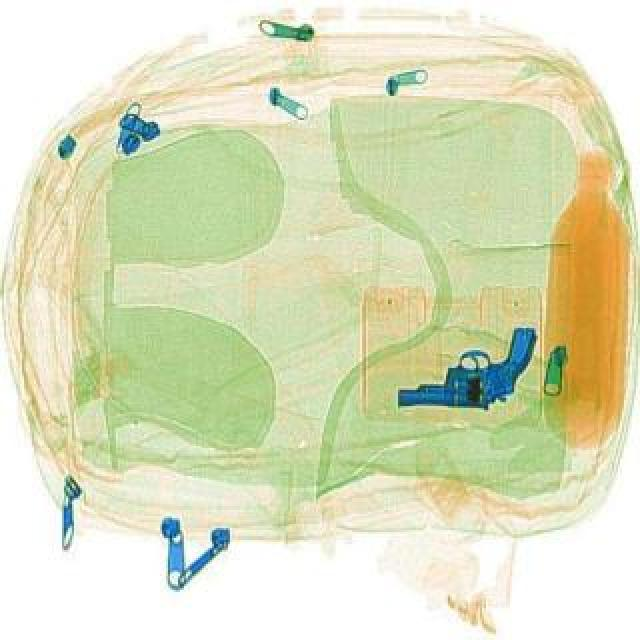gun: (400, 326, 536, 416)
